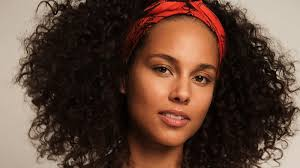black_female: (89, 1, 249, 162)
